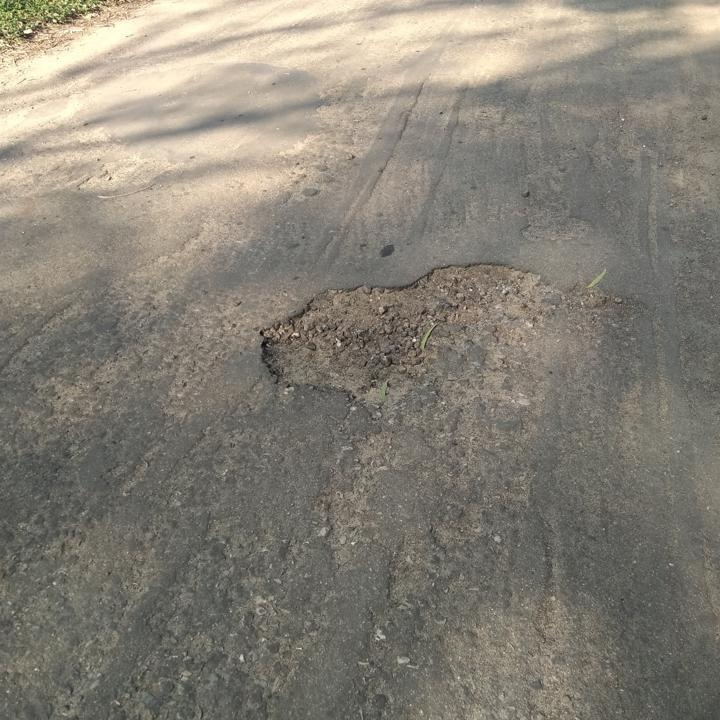pothole: (255, 258, 567, 418)
